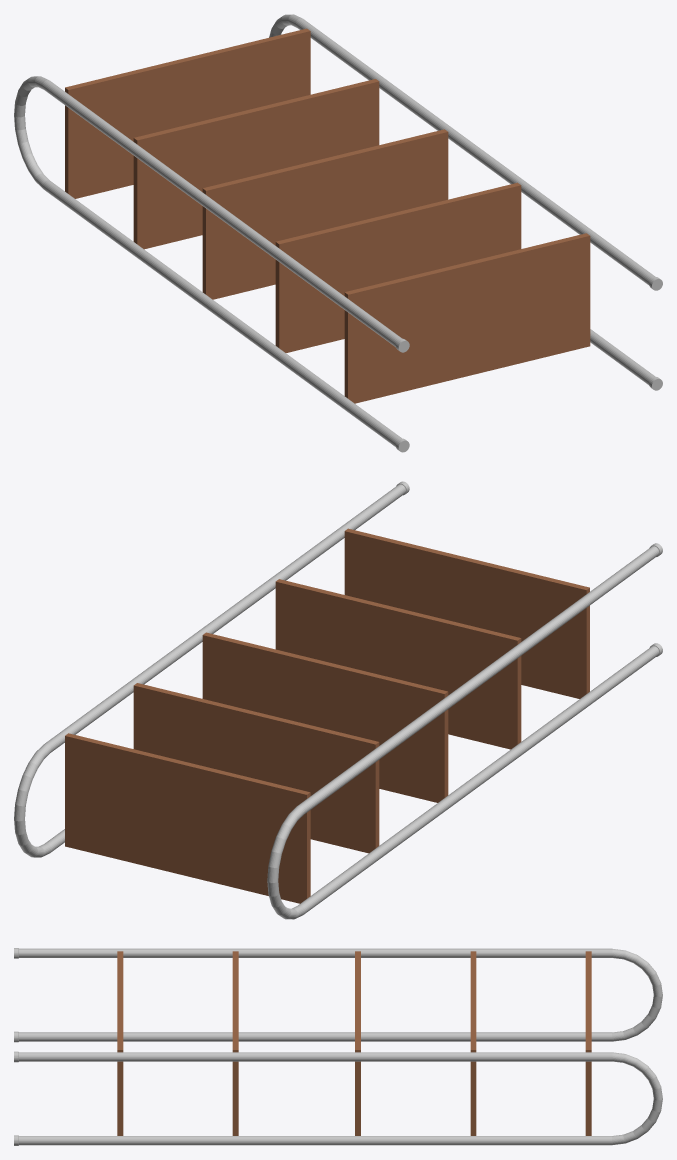
File: Regal.dae
3 views of the same model, one above another, from view 1: azimuth 30°, elevation 25°; view 2: azimuth 150°, elevation 25°; view 3: azimuth 270°, elevation 25° (orthographic). The views are drawn at different scales.
Parts seen in each view (by area): view 1: sh2; view 2: sh2; view 3: sh2.
Boxes of the visible parts, <box> form: sh2: <box>14,14,662,452</box>; sh2: <box>14,481,662,919</box>; sh2: <box>14,948,662,1145</box>.
Bounding box in the file's own units: 0.7806 × 1.98 × 0.3145.
